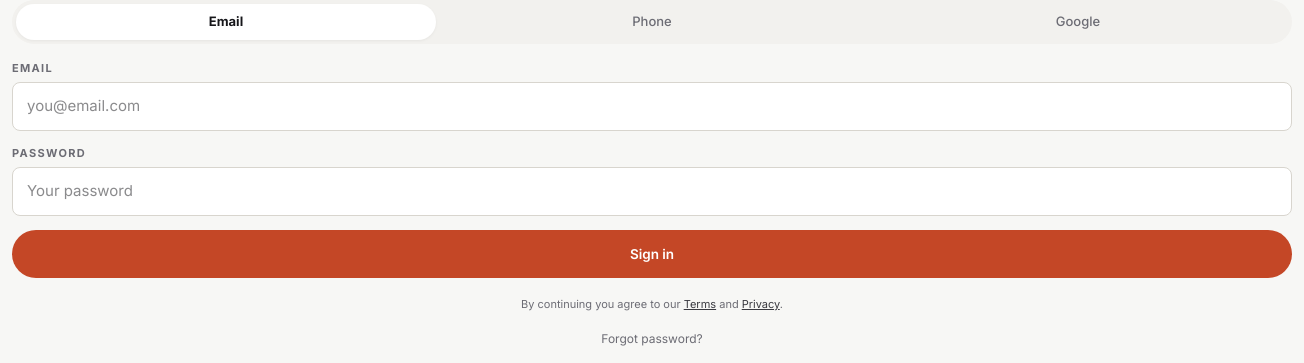
Test: SignInForm › surfaces friendly() copy for known Firebase auth/* error codes
Click the tab "Phone" at [652, 22], box 442,4 -> 862,40
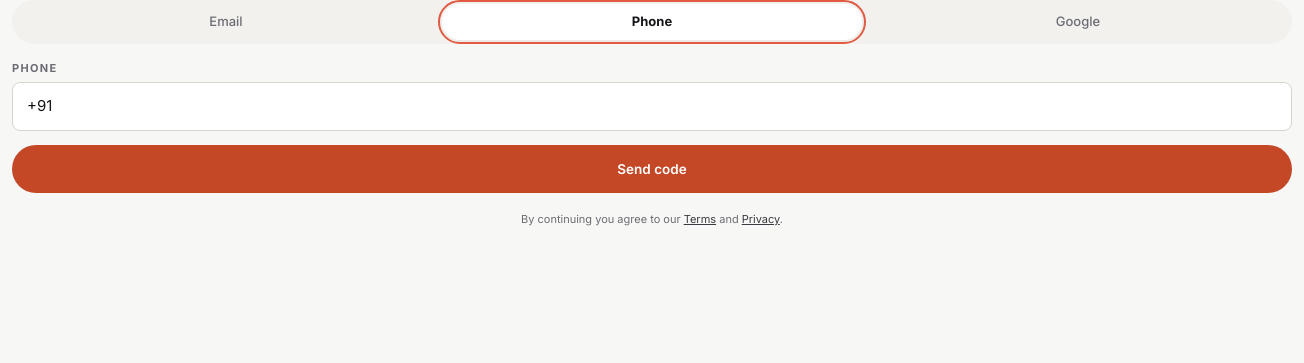
Replace the text in the field labelled "Phone" with "+919876543210" at [652, 106], box 12,82 -> 1292,130
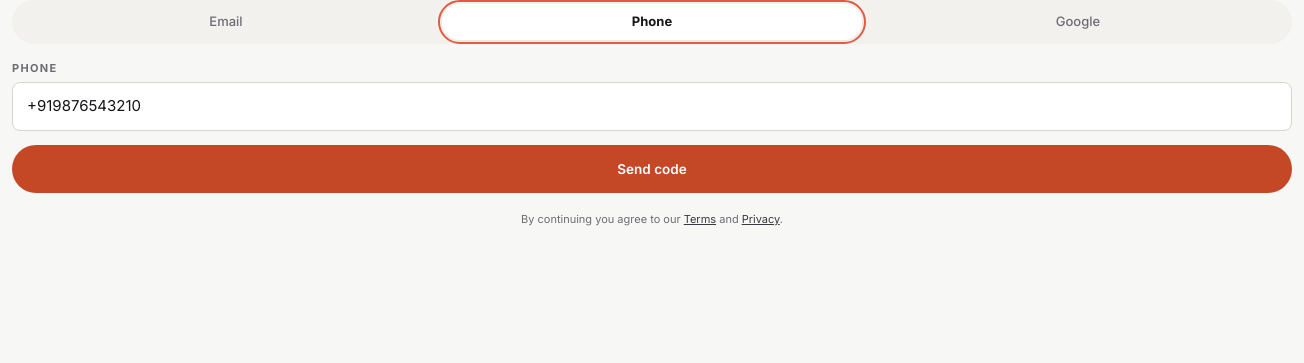
Click the button "Send code" at [652, 169], box 12,144 -> 1292,193
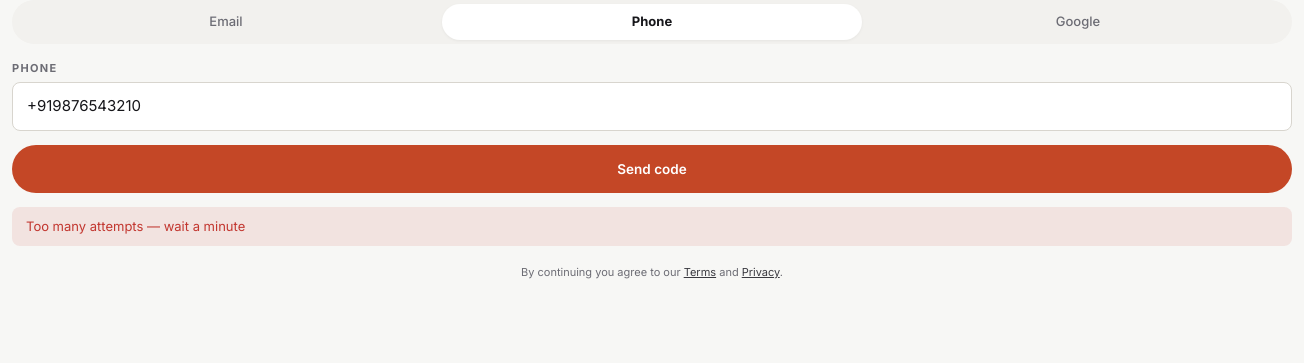
Expected: the text "Too many attempts — wait a minute" is shown, 12,207 -> 1292,246
